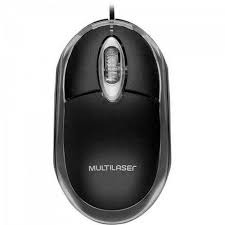mouse: (50, 15, 177, 221)
